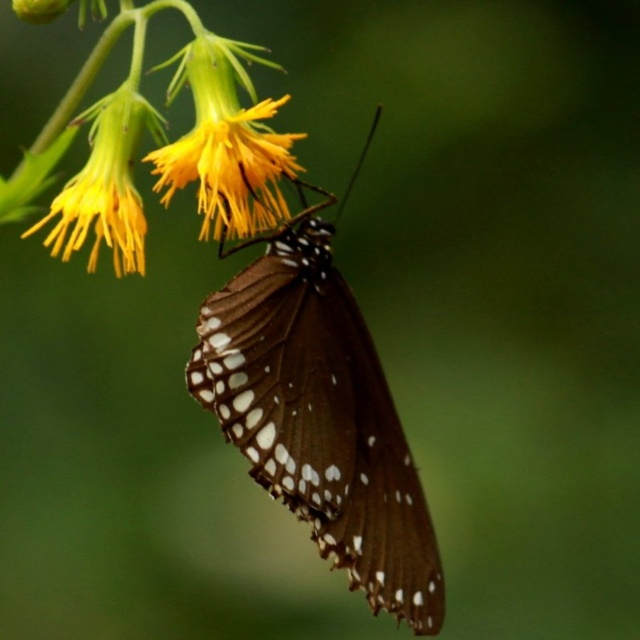Butterfly: (186, 103, 445, 636)
